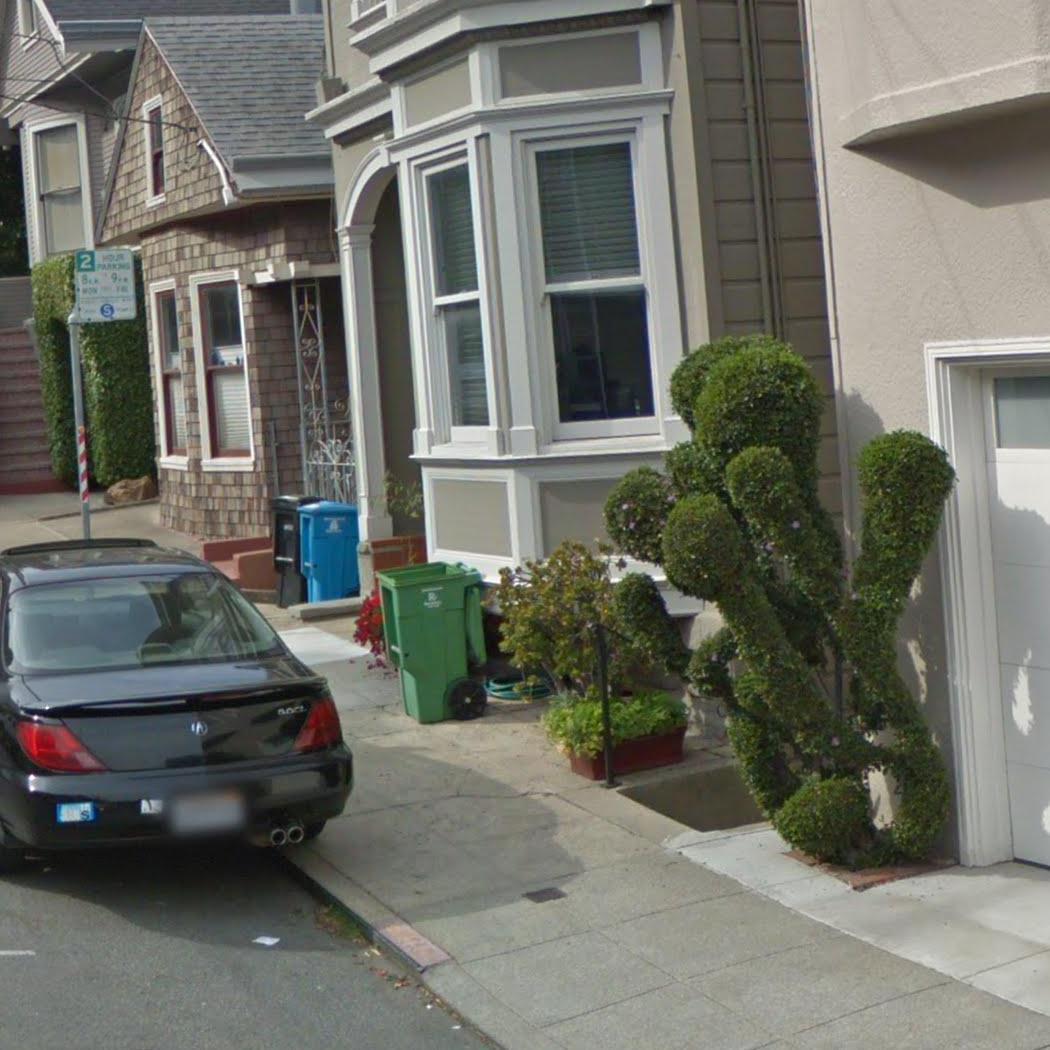2 Hour Parking: (66, 241, 144, 328)
